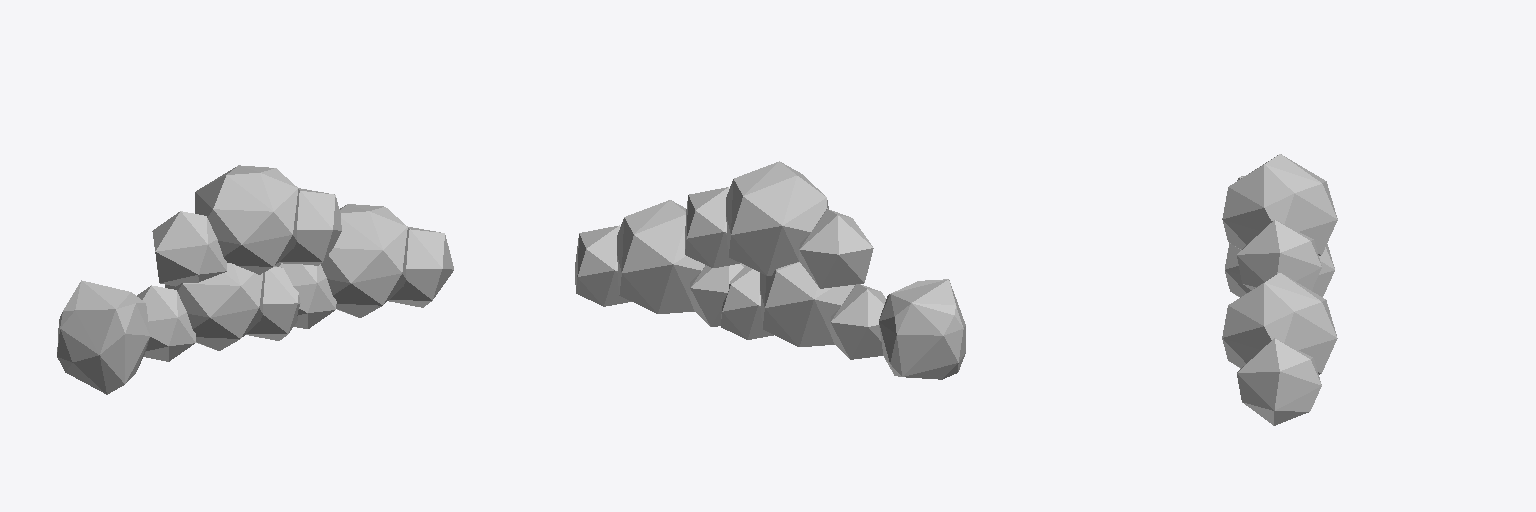
File: Cloud21.obj
3 views of the same model, side by side, from view 1: azimuth 30°, elevation 25°; view 2: azimuth 150°, elevation 25°; view 3: azimuth 270°, elevation 25° (orthographic).
Parts seen in each view (by area): view 1: Cloud21_Object_52_Object_24.001; view 2: Cloud21_Object_52_Object_24.001; view 3: Cloud21_Object_52_Object_24.001.
Part boxes in pixels (x1,y1,x2,y2): Cloud21_Object_52_Object_24.001: (57, 165, 453, 394); Cloud21_Object_52_Object_24.001: (575, 161, 965, 379); Cloud21_Object_52_Object_24.001: (1222, 154, 1337, 425).
Bounding box in the file's own units: 2.91 × 1.28 × 0.7447.